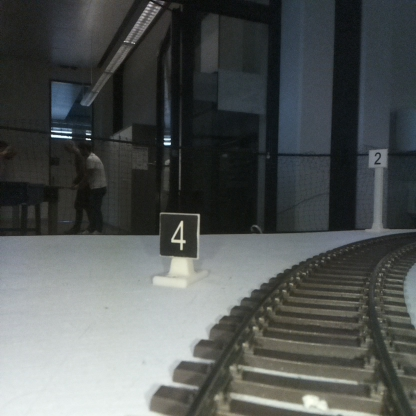black-stop-4: (160, 214, 198, 286)
white-info-2: (368, 149, 386, 233)
